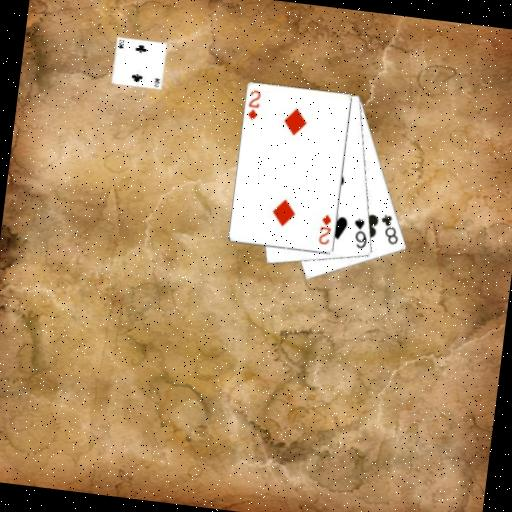2D: (316, 211, 335, 248), (244, 87, 263, 123)
6S: (349, 214, 372, 251)
8C: (375, 211, 403, 247)
